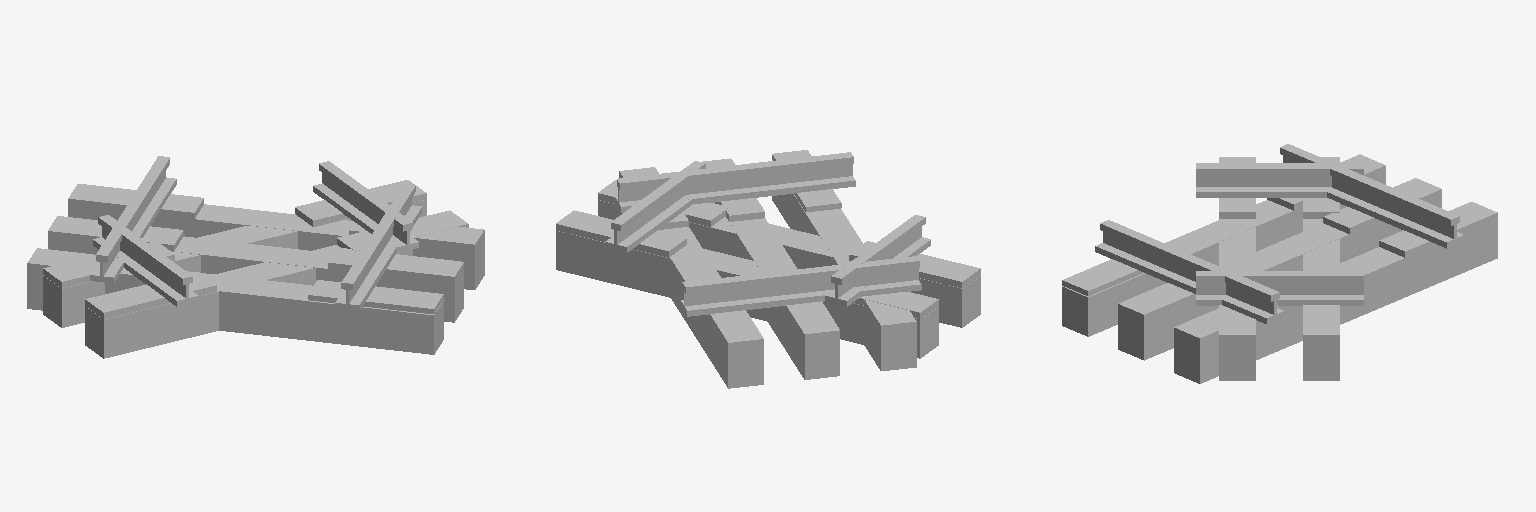
File: cross_d2_zo.obj
3 views of the same model, side by side, from view 1: azimuth 30°, elevation 25°; view 2: azimuth 150°, elevation 25°; view 3: azimuth 270°, elevation 25° (orthographic).
Parts seen in each view (by area): view 1: cube; view 2: cube; view 3: cube.
Part boxes in pixels (left/top/right/bottom): cube: left=27, top=156, right=484, bottom=358; cube: left=556, top=150, right=980, bottom=388; cube: left=1062, top=144, right=1497, bottom=383.
Bounding box in the file's own units: 2.59 × 0.474 × 2.59.